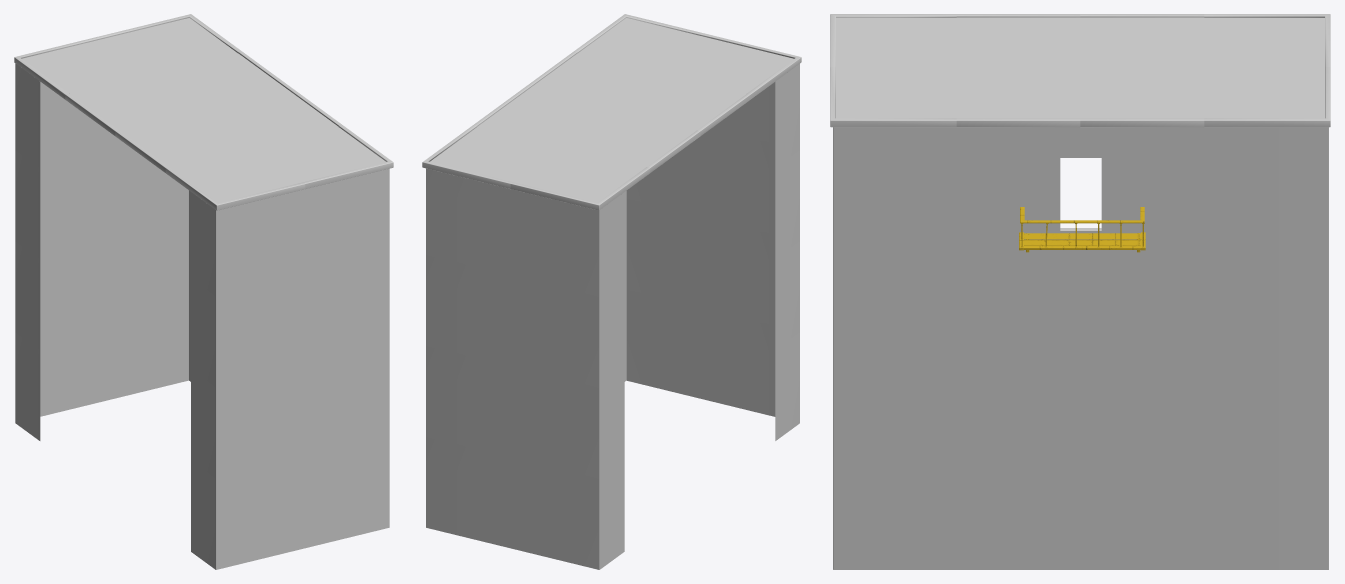
File: HOTRUN_PIZZA_1.fbx
The picture shows the model from 3 angles, left to right: view 1: azimuth 30°, elevation 25°; view 2: azimuth 150°, elevation 25°; view 3: azimuth 270°, elevation 25°; orthographic projection. The views are drawn at different scales.
Visible parts, largest first — view 1: 3*3.2445, 3*3.2446, 3*3.2449, 3*3.2448, 3*3.2450, 3*3.2447, 3*3.2444, 3*3.2639, 3*3.2642, 3*3.2641, 3*3.2640, 3*3.2403 (+23 smaller); view 2: 3*3.2449, 3*3.2450, 3*3.2444, 3*3.2445, 3*3.2446, 3*3.2443, 3*3.2448, 3*3.2635, 3*3.2637, 3*3.2638, 3*3.2636, 3*3.2403 (+23 smaller); view 3: 3*3.2400, 3*3.2415, 3*3.2416, 3*3.2435, 3*3.2436, 3*3.2438, 3*3.2439, 3*3.2397, 3*3.2399, 3*3.2396, 3*3.2398, 3*3.2410 (+23 smaller).
Part boxes in pixels (box(x1,y1,x2,y2)): 3*3.2445: box(58, 209, 145, 320); 3*3.2446: box(58, 300, 145, 412); 3*3.2449: box(259, 356, 346, 468); 3*3.2448: box(259, 265, 346, 377); 3*3.2450: box(259, 447, 346, 559); 3*3.2447: box(259, 179, 346, 286); 3*3.2444: box(58, 128, 145, 229); 3*3.2639: box(191, 279, 259, 387); 3*3.2642: box(191, 370, 259, 478); 3*3.2641: box(191, 461, 259, 569); 3*3.2640: box(191, 192, 259, 296); 3*3.2403: box(154, 53, 288, 110); 3*3.2449: box(670, 209, 756, 321); 3*3.2450: box(670, 300, 756, 412); 3*3.2444: box(469, 265, 555, 377); 3*3.2445: box(469, 356, 555, 468); 3*3.2446: box(469, 447, 555, 559); 3*3.2443: box(469, 179, 555, 286); 3*3.2448: box(670, 128, 756, 230); 3*3.2635: box(556, 279, 624, 387); 3*3.2637: box(556, 461, 624, 569); 3*3.2638: box(556, 370, 624, 478); 3*3.2636: box(556, 192, 624, 296); 3*3.2403: box(477, 90, 611, 147); 3*3.2400: box(895, 233, 1018, 345); 3*3.2415: box(1143, 345, 1266, 457); 3*3.2416: box(1143, 457, 1266, 569); 3*3.2435: box(1019, 345, 1142, 457); 3*3.2436: box(895, 345, 1018, 457); 3*3.2438: box(1019, 457, 1142, 569); 3*3.2439: box(895, 457, 1018, 569); 3*3.2397: box(1143, 233, 1266, 345); 3*3.2399: box(895, 127, 1018, 232); 3*3.2396: box(1143, 127, 1266, 232); 3*3.2398: box(1019, 233, 1142, 345); 3*3.2410: box(1019, 127, 1142, 232).
Bounding box in the file's own units: 6.9 × 12.05 × 12.11.
